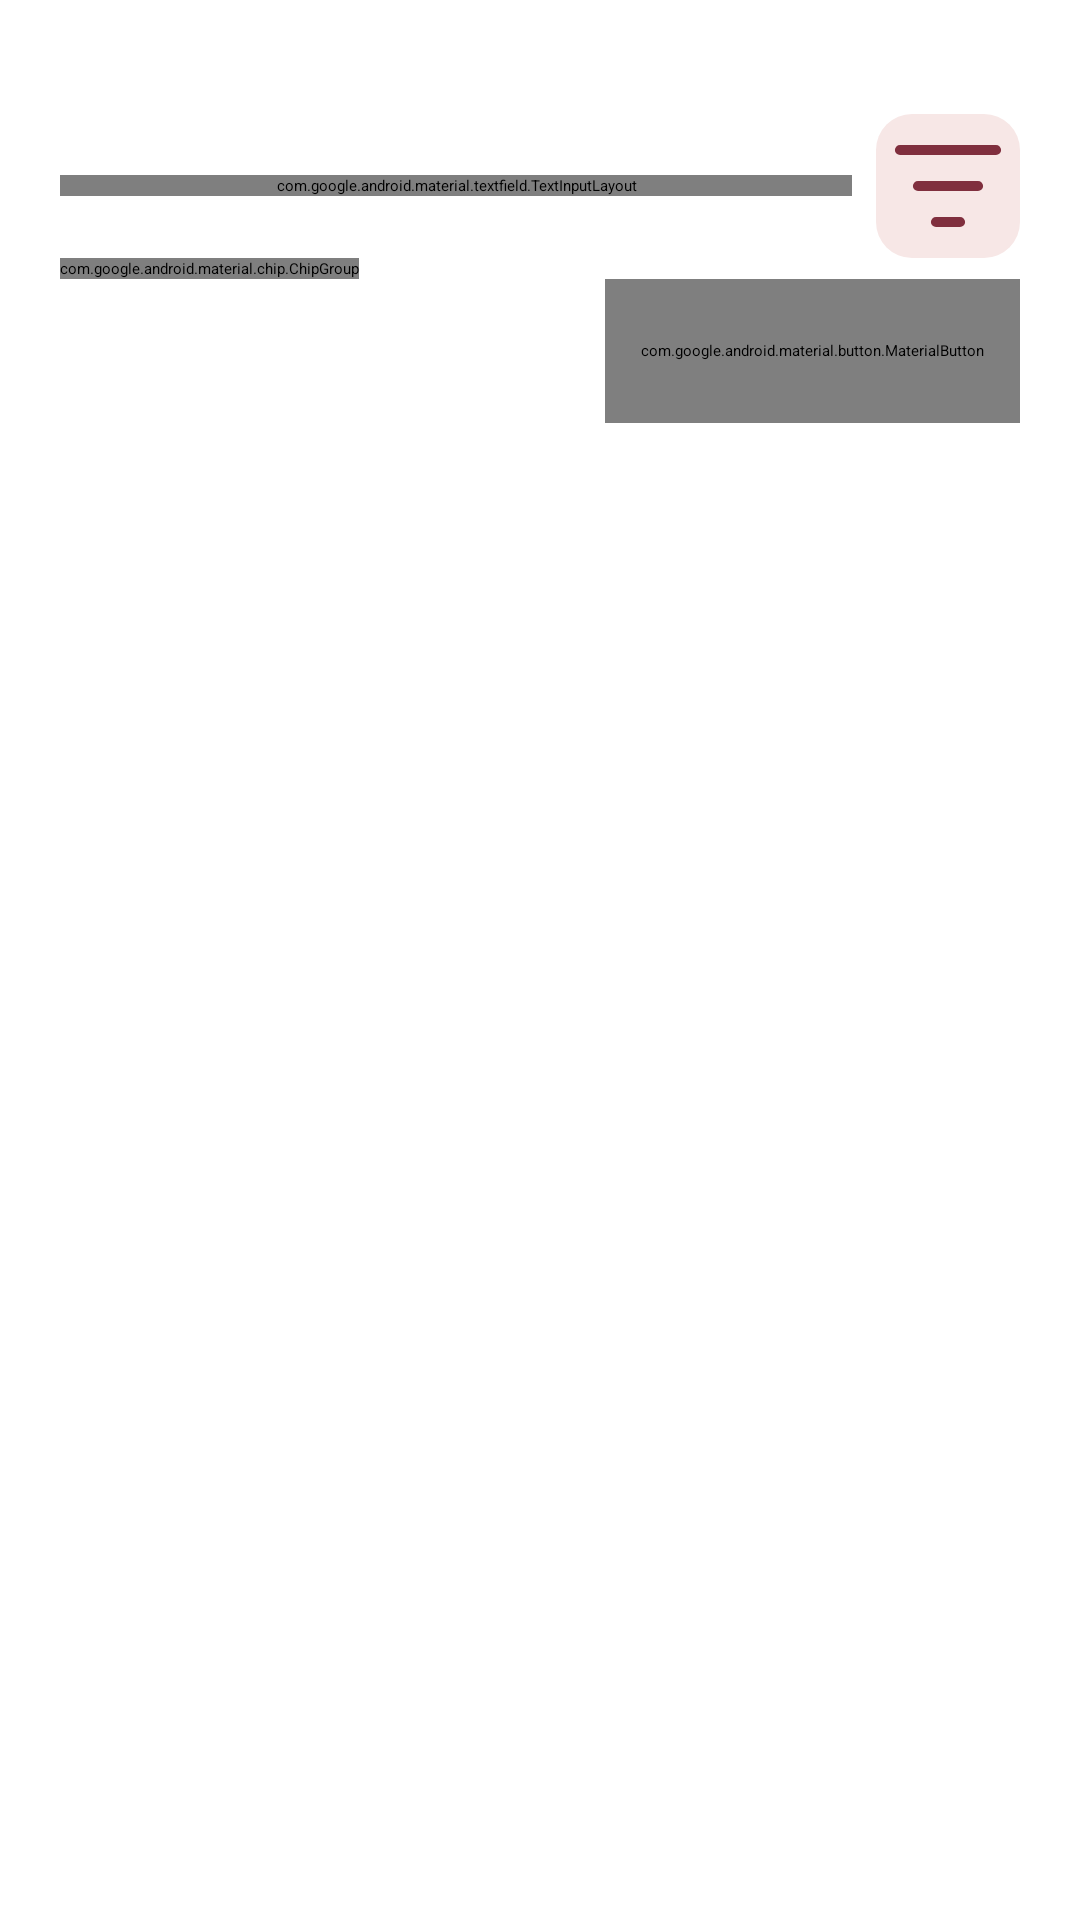

Where to tap for icons on this 1080 x 1920 app screen, as point (x, y):
Abrir filtros: point (948, 186)
